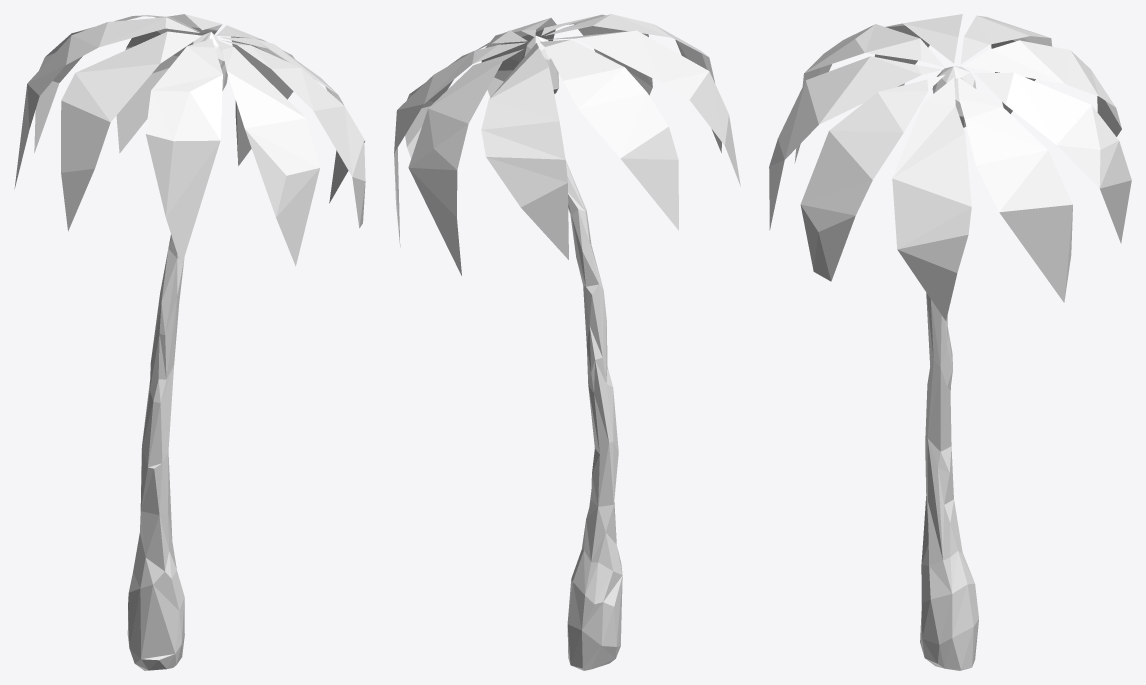
File: palm.FBX
3 renders of one model, left to right at view 1: azimuth 30°, elevation 25°; view 2: azimuth 150°, elevation 25°; view 3: azimuth 270°, elevation 25°, orthographic.
Parts seen in each view (by area): view 1: Palm cocos002; view 2: Palm cocos002; view 3: Palm cocos002.
Part boxes in pixels (x1,y1,x2,y2): Palm cocos002: (14, 14, 365, 670); Palm cocos002: (394, 14, 740, 670); Palm cocos002: (769, 14, 1131, 670).
Bounding box in the file's own units: 8.18 × 16.25 × 8.4.
